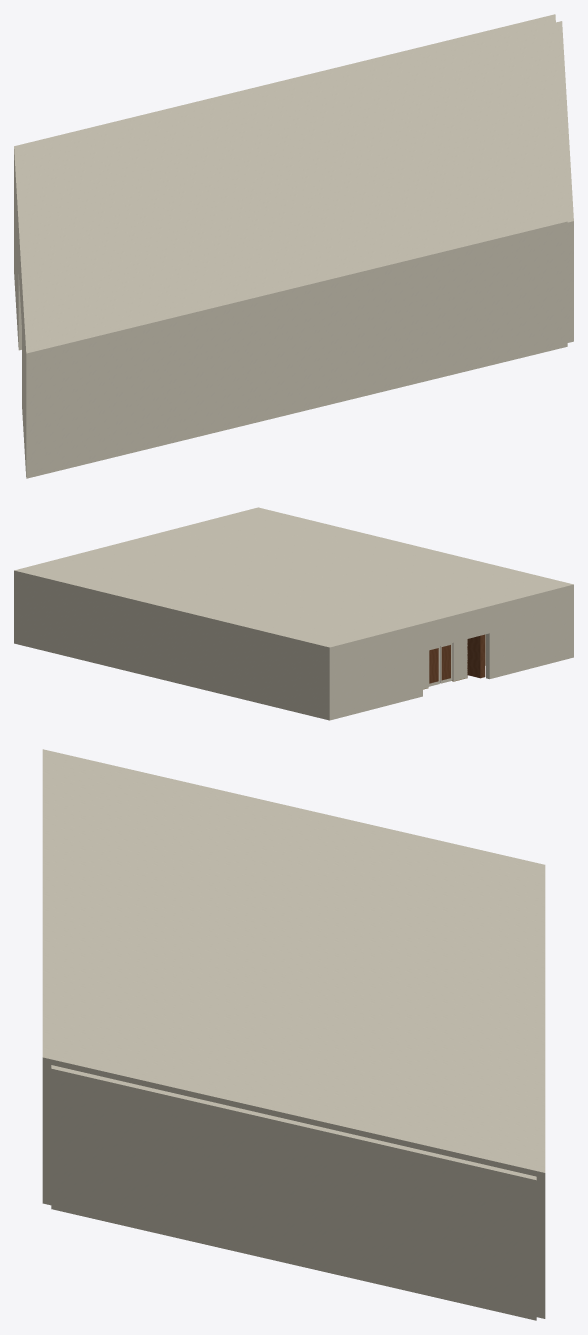
The picture shows the model from 3 angles, top to bottom: view 1: azimuth 30°, elevation 25°; view 2: azimuth 150°, elevation 25°; view 3: azimuth 270°, elevation 25°; orthographic projection. The views are drawn at different scales.
Visible parts, largest first — view 1: PremiumPressureClosure, ForePartyWall, HeldFrontageOpaqueEnclosure, InnerForePartyReturn, InnerAftPartyReturn; view 2: PremiumPressureClosure, AftPartyWall, InnerAftPartyReturn, InnerForePartyReturn, ArrivalHeader, ArrivalForePocket, PrivateEntry_01_ENTRY_PocketSkin_-1_1, PrivateEntry_01_ENTRY_TimberInset_RIGHT_1, PrivateEntry_01_ENTRY_TimberInset_LEFT_1, ForePartyWall; view 3: PremiumPressureClosure, HeldFrontageOpaqueEnclosure, ForePartyWall, AftPartyWall.
Boxes of the visible parts, bbox=[...] form: PremiumPressureClosure: bbox=[14, 14, 567, 358]; ForePartyWall: bbox=[26, 226, 567, 477]; HeldFrontageOpaqueEnclosure: bbox=[556, 21, 573, 342]; InnerForePartyReturn: bbox=[22, 289, 32, 478]; InnerAftPartyReturn: bbox=[14, 159, 21, 350]; PremiumPressureClosure: bbox=[14, 507, 573, 650]; AftPartyWall: bbox=[14, 573, 333, 720]; InnerAftPartyReturn: bbox=[326, 626, 422, 720]; InnerForePartyReturn: bbox=[486, 587, 573, 679]; ArrivalHeader: bbox=[423, 609, 489, 650]; ArrivalForePocket: bbox=[467, 634, 485, 678]; PrivateEntry_01_ENTRY_PocketSkin_-1_1: bbox=[452, 639, 467, 681]; PrivateEntry_01_ENTRY_TimberInset_RIGHT_1: bbox=[429, 648, 438, 683]; PrivateEntry_01_ENTRY_TimberInset_LEFT_1: bbox=[441, 645, 450, 680]; ForePartyWall: bbox=[569, 587, 573, 658]; PremiumPressureClosure: bbox=[42, 749, 545, 1178]; HeldFrontageOpaqueEnclosure: bbox=[51, 1065, 536, 1320]; ForePartyWall: bbox=[42, 1063, 51, 1205]; AftPartyWall: bbox=[536, 1177, 545, 1318].
Bounding box in the file's own units: 27.8 × 4.45 × 13.88.
Materials: 158 (152 with a texture image).
